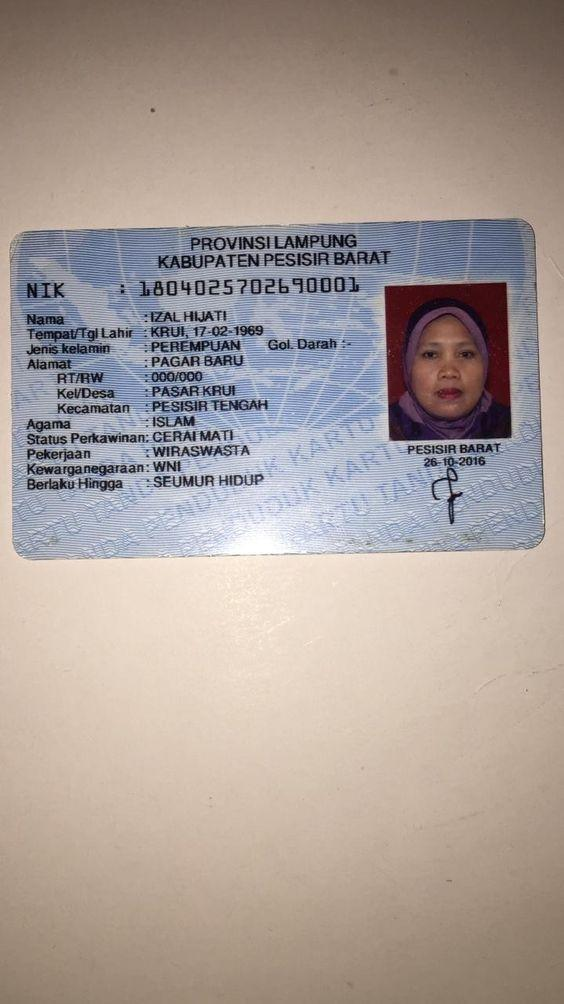ID-card: (11, 214, 548, 554)
